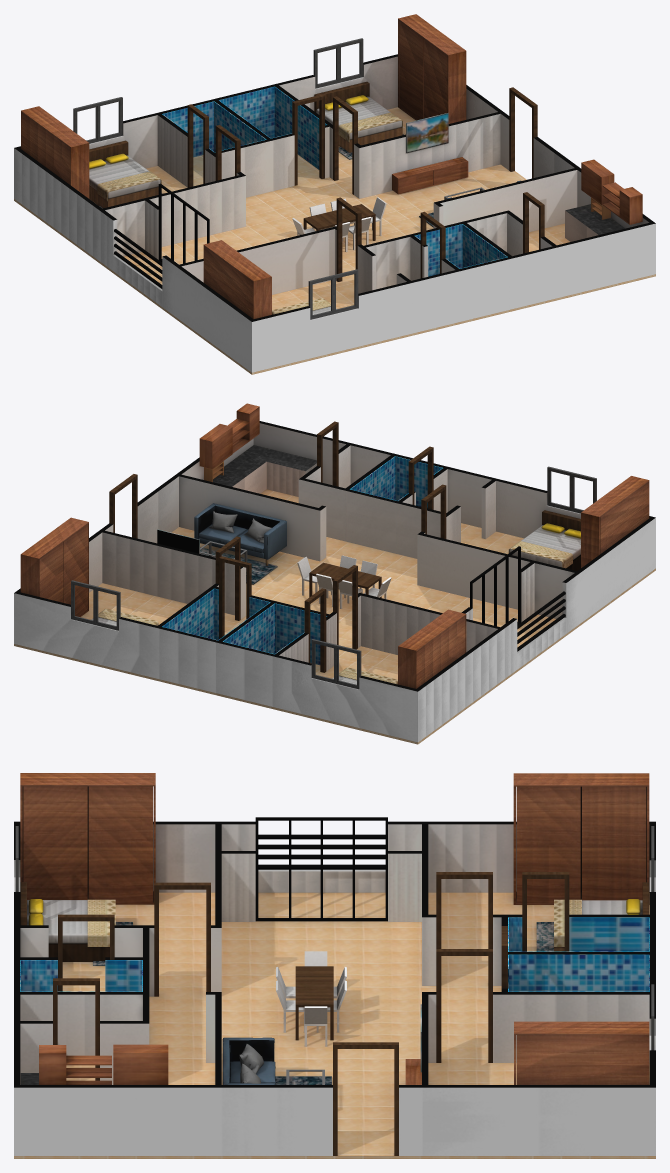
File: 3bhk_villa.glb
3 renders of one model, top to bottom at view 1: azimuth 30°, elevation 25°; view 2: azimuth 150°, elevation 25°; view 3: azimuth 270°, elevation 25°, orthographic. The views are drawn at different scales.
Visible parts, largest first — view 1: Object002_Object002_mtl_0, Object003_Object003_mtl_0, Object001_Object001_mtl_0; view 2: Object002_Object002_mtl_0, Object003_Object003_mtl_0, Object001_Object001_mtl_0; view 3: Object002_Object002_mtl_0, Object003_Object003_mtl_0, Object001_Object001_mtl_0.
Boxes of the visible parts, x1=… form: Object002_Object002_mtl_0: x1=14, y1=54, x2=655, y2=372; Object003_Object003_mtl_0: x1=14, y1=86, x2=642, y2=374; Object001_Object001_mtl_0: x1=21, y1=14, x2=655, y2=374; Object002_Object002_mtl_0: x1=14, y1=421, x2=655, y2=742; Object003_Object003_mtl_0: x1=14, y1=403, x2=655, y2=744; Object001_Object001_mtl_0: x1=20, y1=466, x2=649, y2=689; Object002_Object002_mtl_0: x1=14, y1=817, x2=655, y2=1155; Object003_Object003_mtl_0: x1=14, y1=872, x2=655, y2=1158; Object001_Object001_mtl_0: x1=15, y1=773, x2=654, y2=1084.
Bounding box in the file's own units: 10.16 × 2.18 × 10.36.
Materials: 3 (3 with a texture image).
